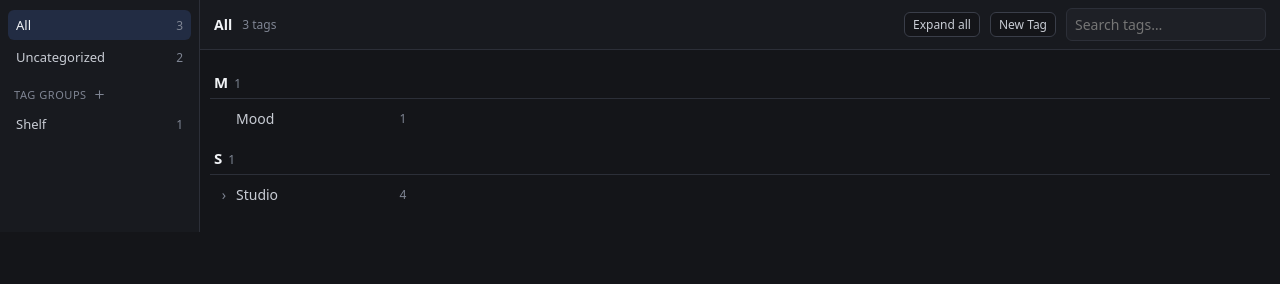
Test case: expands and collapses every tag with children in one action
Check: the text "Series" is not shown
Click the button "Expand all" at (942, 24), box x1=904 y1=12 x2=980 y2=37
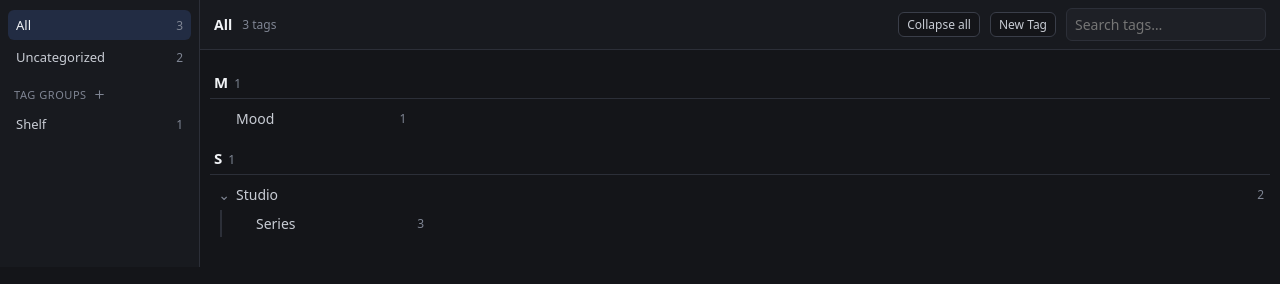
Check: the text "Series" is shown, box x1=256 y1=214 x2=296 y2=233
Click the button "Collapse all" at (939, 24), box x1=898 y1=12 x2=980 y2=37
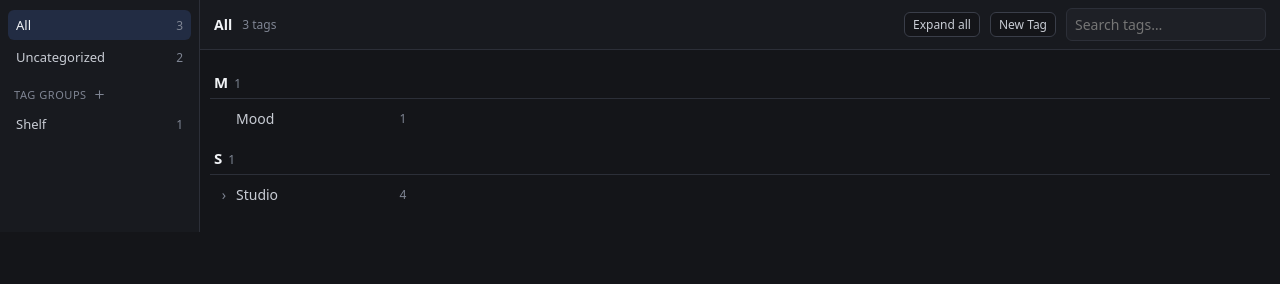
Check: the text "Series" is gone
